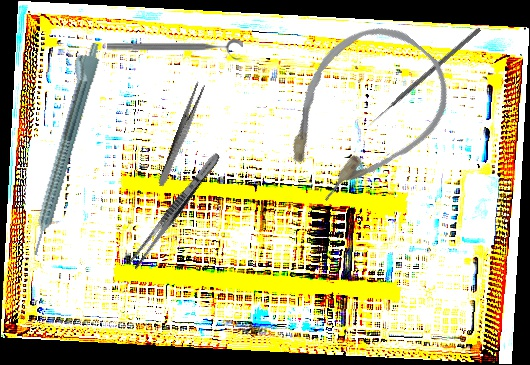Cannula: (253, 2, 471, 225)
Dressing Forceps: (126, 149, 224, 272), (156, 80, 207, 189)
Fixation Ring: (107, 39, 243, 61)
Handpiece: (18, 38, 104, 258)
Pusher: (365, 26, 482, 129)
